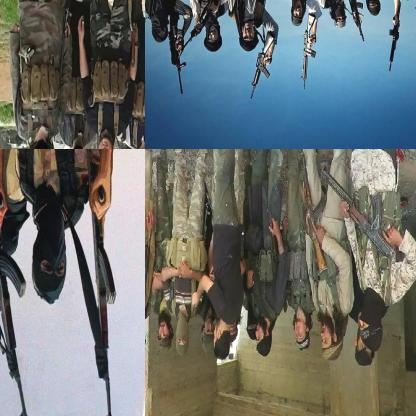rifle: (76, 149, 124, 415), (319, 161, 402, 259), (0, 199, 36, 415), (295, 149, 328, 274), (247, 26, 277, 103), (185, 0, 223, 46), (383, 0, 404, 75), (300, 10, 319, 92), (124, 0, 143, 77), (167, 22, 186, 94), (346, 0, 368, 44)
